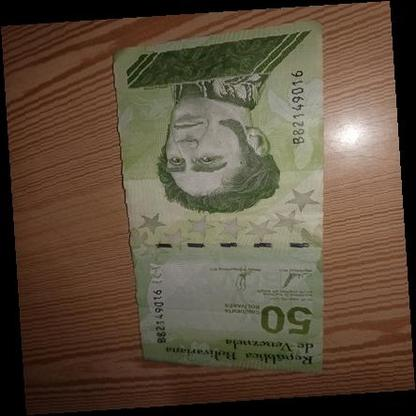fifty-front-vef: (112, 20, 325, 374)
